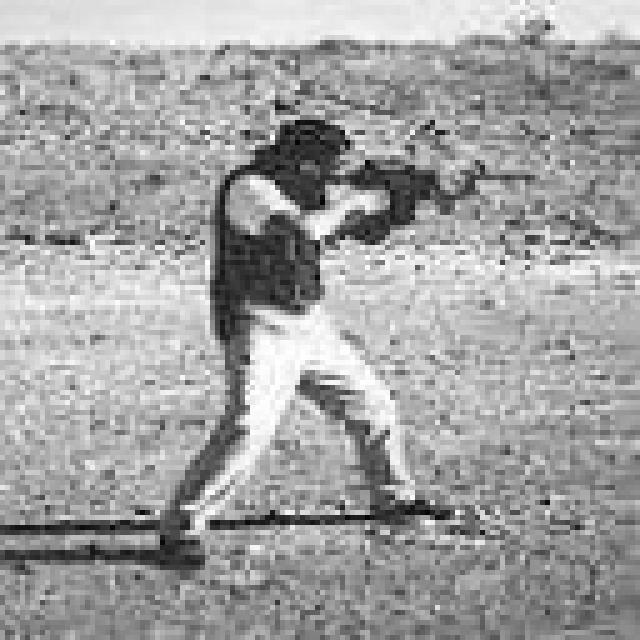Rifle: (324, 142, 541, 237)
